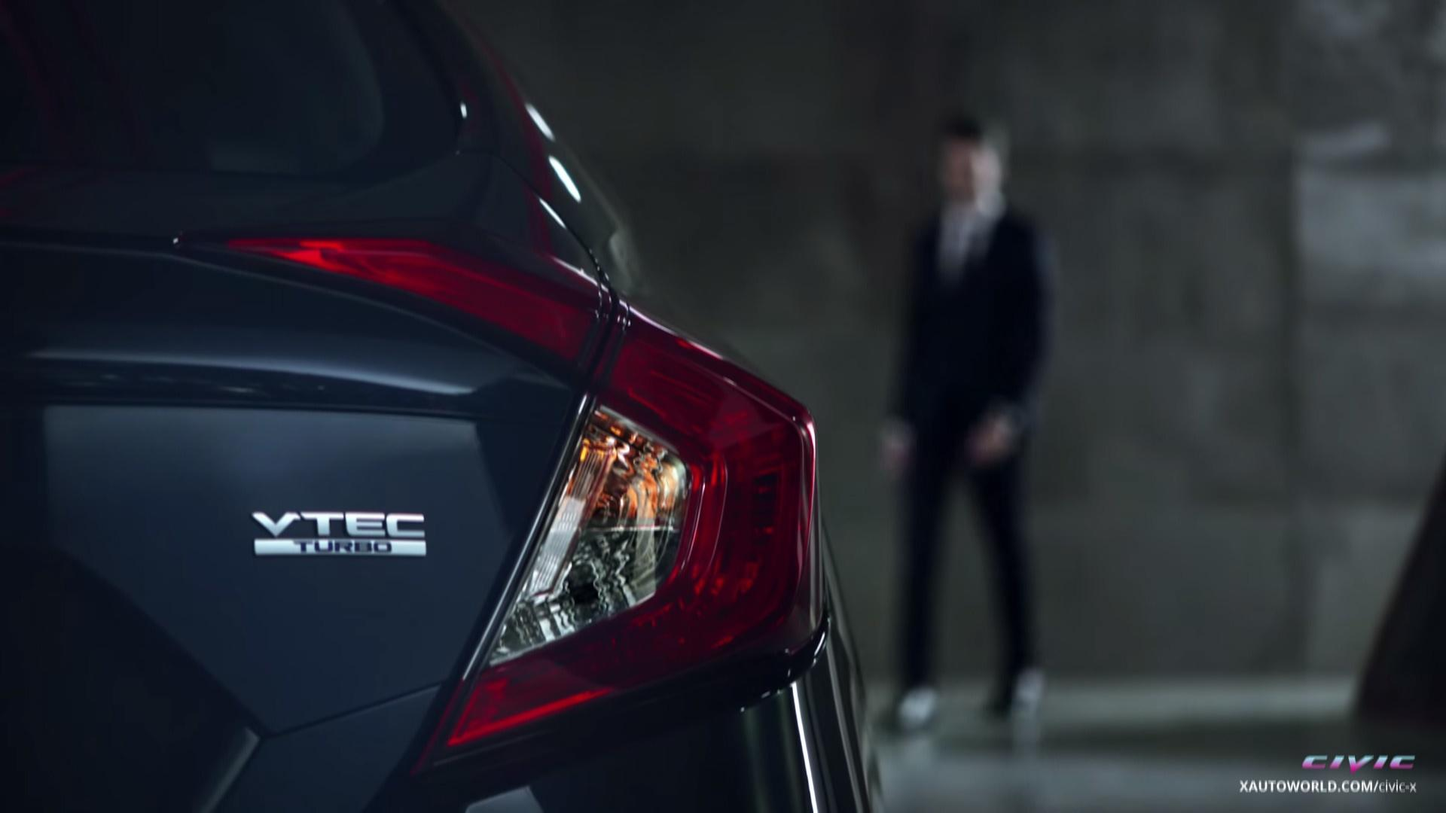Car boot: (23, 222, 596, 813)
Rear bumper: (108, 605, 894, 813)
Rear light - -R-: (179, 209, 847, 767)
